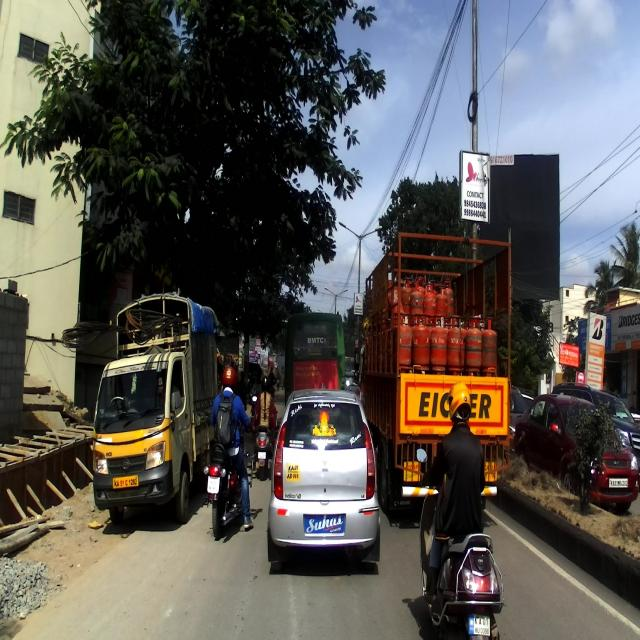car: (265, 388, 380, 577), (513, 393, 639, 513)
motorcycle: (203, 414, 252, 538)
scooter: (416, 448, 505, 639)
truck: (354, 230, 512, 511), (92, 288, 219, 523)
